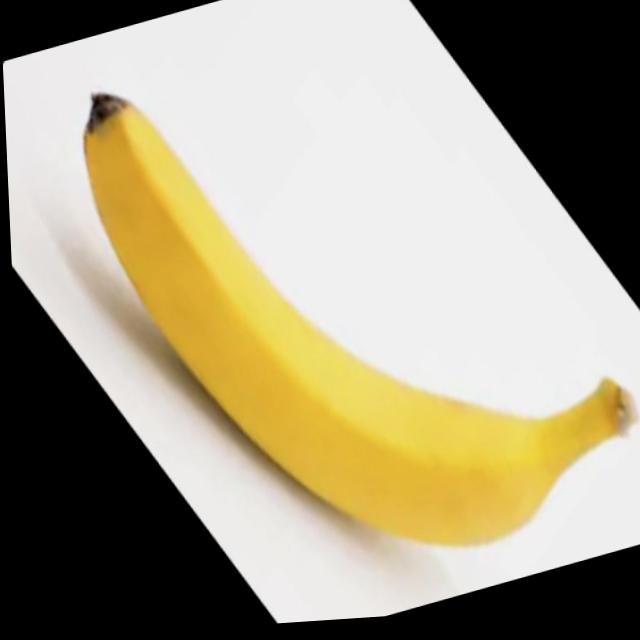Banana: (61, 0, 640, 633)
